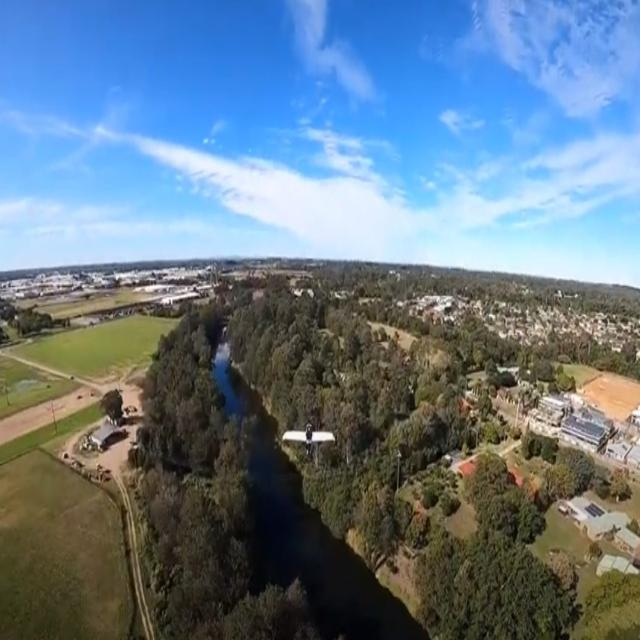iha: (282, 418, 336, 456)
